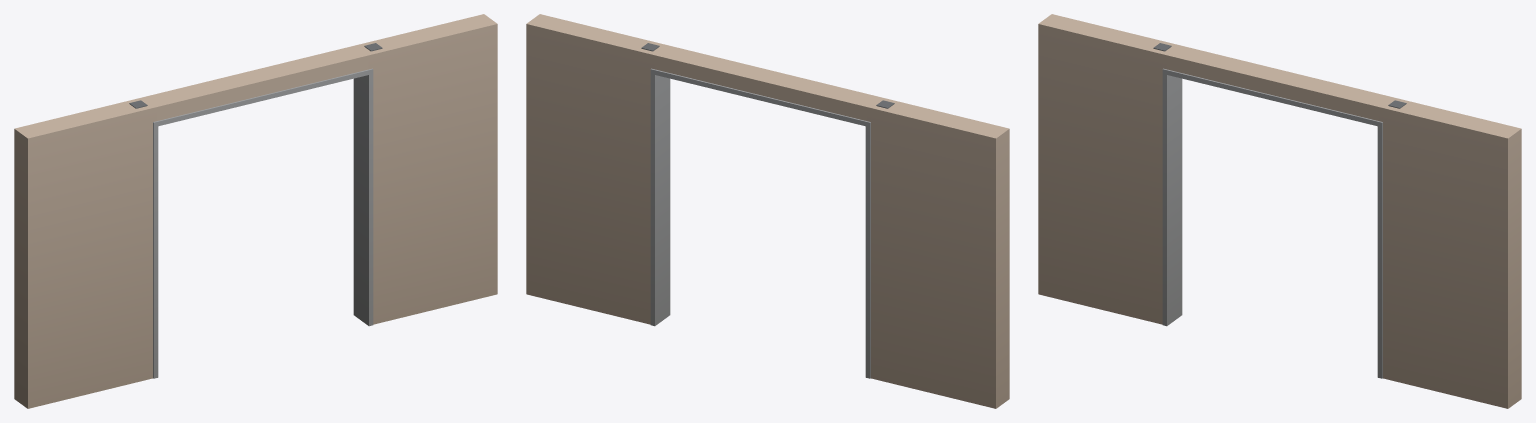
Rendered from doubleDoor_regocrete.glb.
The picture shows the model from 3 angles, left to right: view 1: azimuth 30°, elevation 25°; view 2: azimuth 150°, elevation 25°; view 3: azimuth 330°, elevation 25°; orthographic projection.
Parts seen in each view (by area): view 1: doubleDoor_regocrete; view 2: doubleDoor_regocrete; view 3: doubleDoor_regocrete.
Part boxes in pixels (x1,y1,x2,y2): doubleDoor_regocrete: (14,14,497,408); doubleDoor_regocrete: (526,14,1009,408); doubleDoor_regocrete: (1038,14,1521,408).
Size of the model in its own units: 4 by 2.21 by 0.224.
